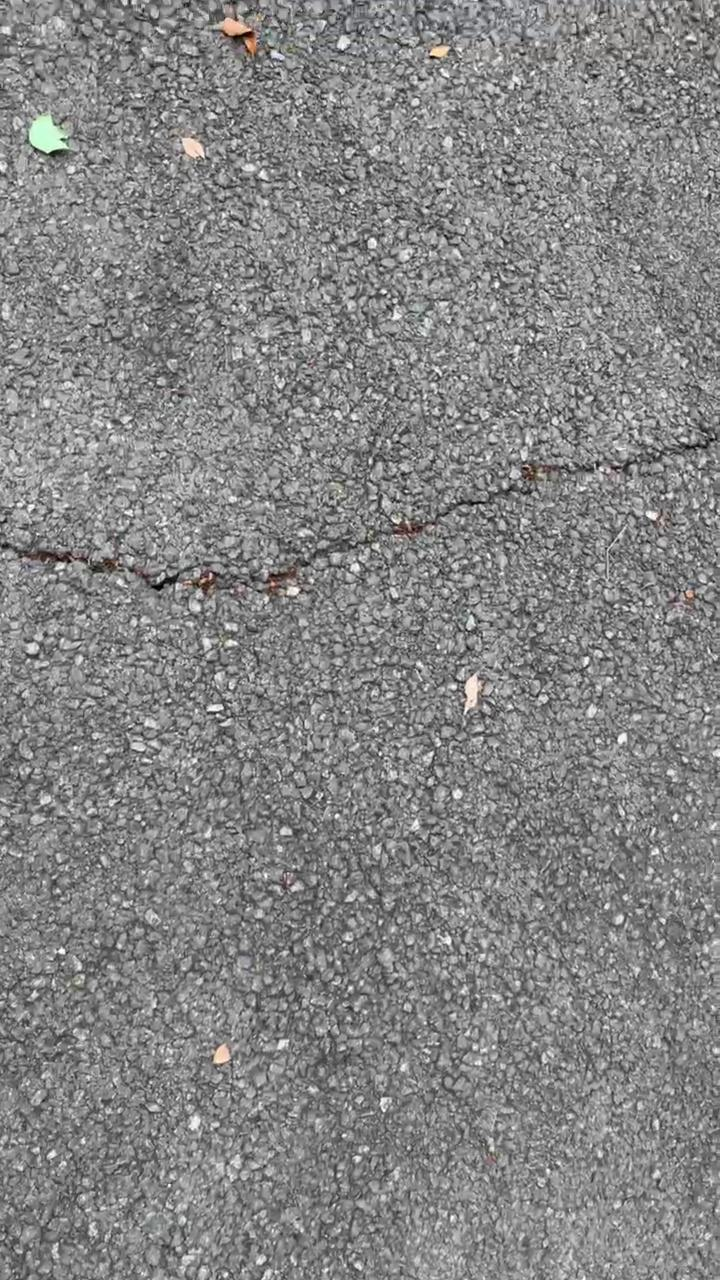Crack: (1, 433, 720, 595)
